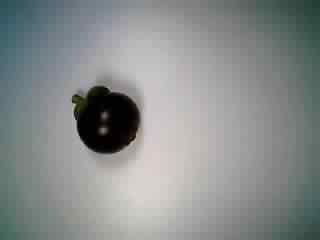mangosteen: (68, 75, 145, 160)
